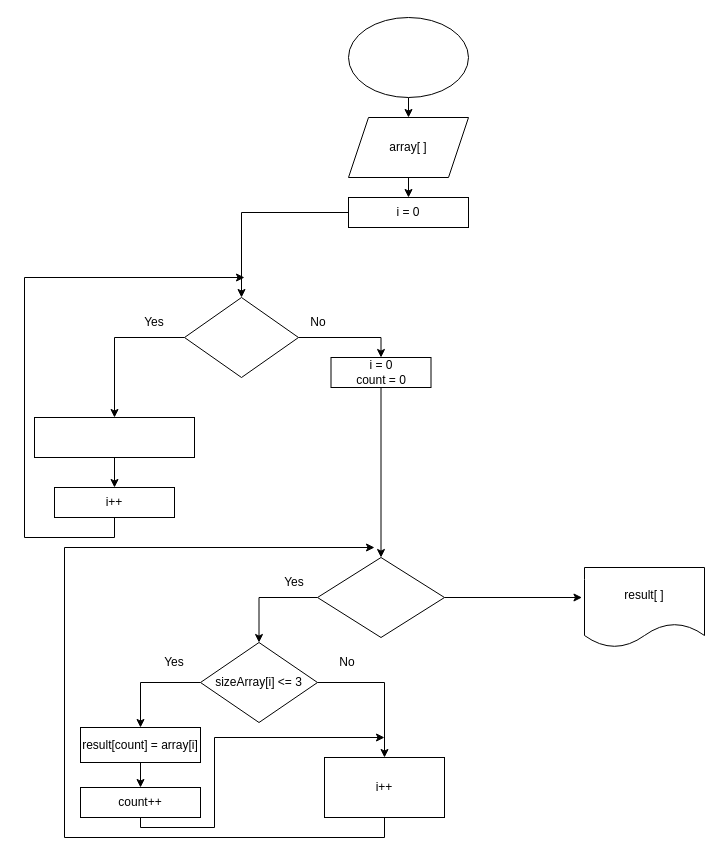
Image size: 722x863. Some labels were removed from this diagram. The shapes that lost their labels are listed below. From the top down, each one's centre as x and y in pixels, then its label:
At point 408,57: "Start".
At point 241,337: "i < array.Length".
At point 114,437: "sizeArray[i] = array[i].Length".
At point 380,597: "i < sizeArray.Length".
